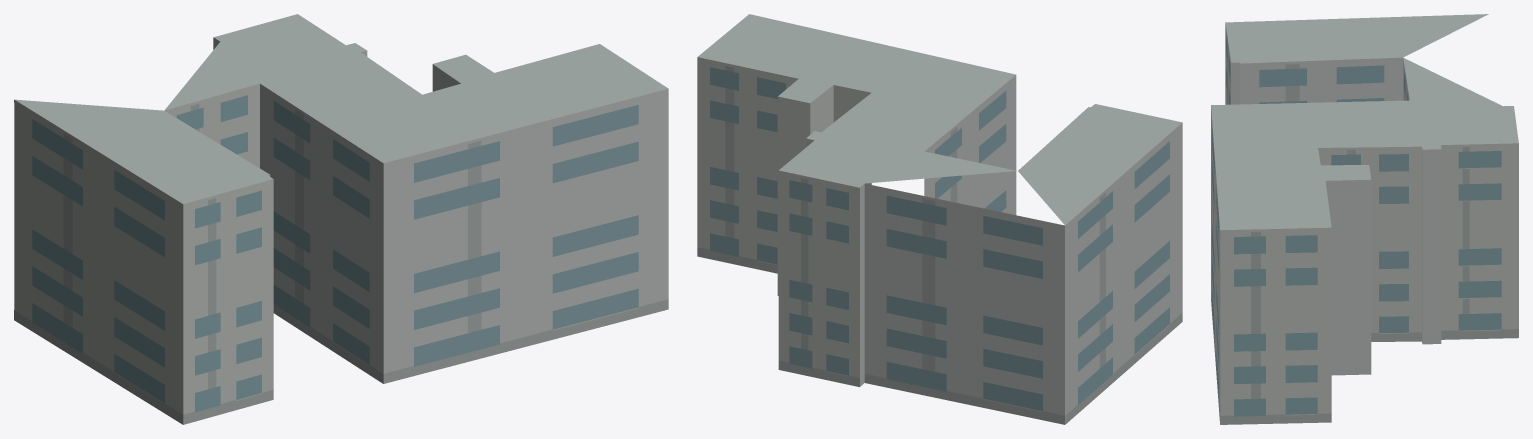
Rendered from survey-upis-32925425.glb.
3 renders of one model, left to right at view 1: azimuth 30°, elevation 25°; view 2: azimuth 150°, elevation 25°; view 3: azimuth 270°, elevation 25°, orthographic. The views are drawn at different scales.
Parts seen in each view (by area): view 1: survey-upis-32925425.tmp; view 2: survey-upis-32925425.tmp; view 3: survey-upis-32925425.tmp.
Boxes of the visible parts, x1=… form: survey-upis-32925425.tmp: x1=14, y1=14, x2=668, y2=424; survey-upis-32925425.tmp: x1=697, y1=14, x2=1182, y2=424; survey-upis-32925425.tmp: x1=1211, y1=14, x2=1518, y2=424.
Size of the model in its own units: 43.57 by 18.3 by 26.23.
